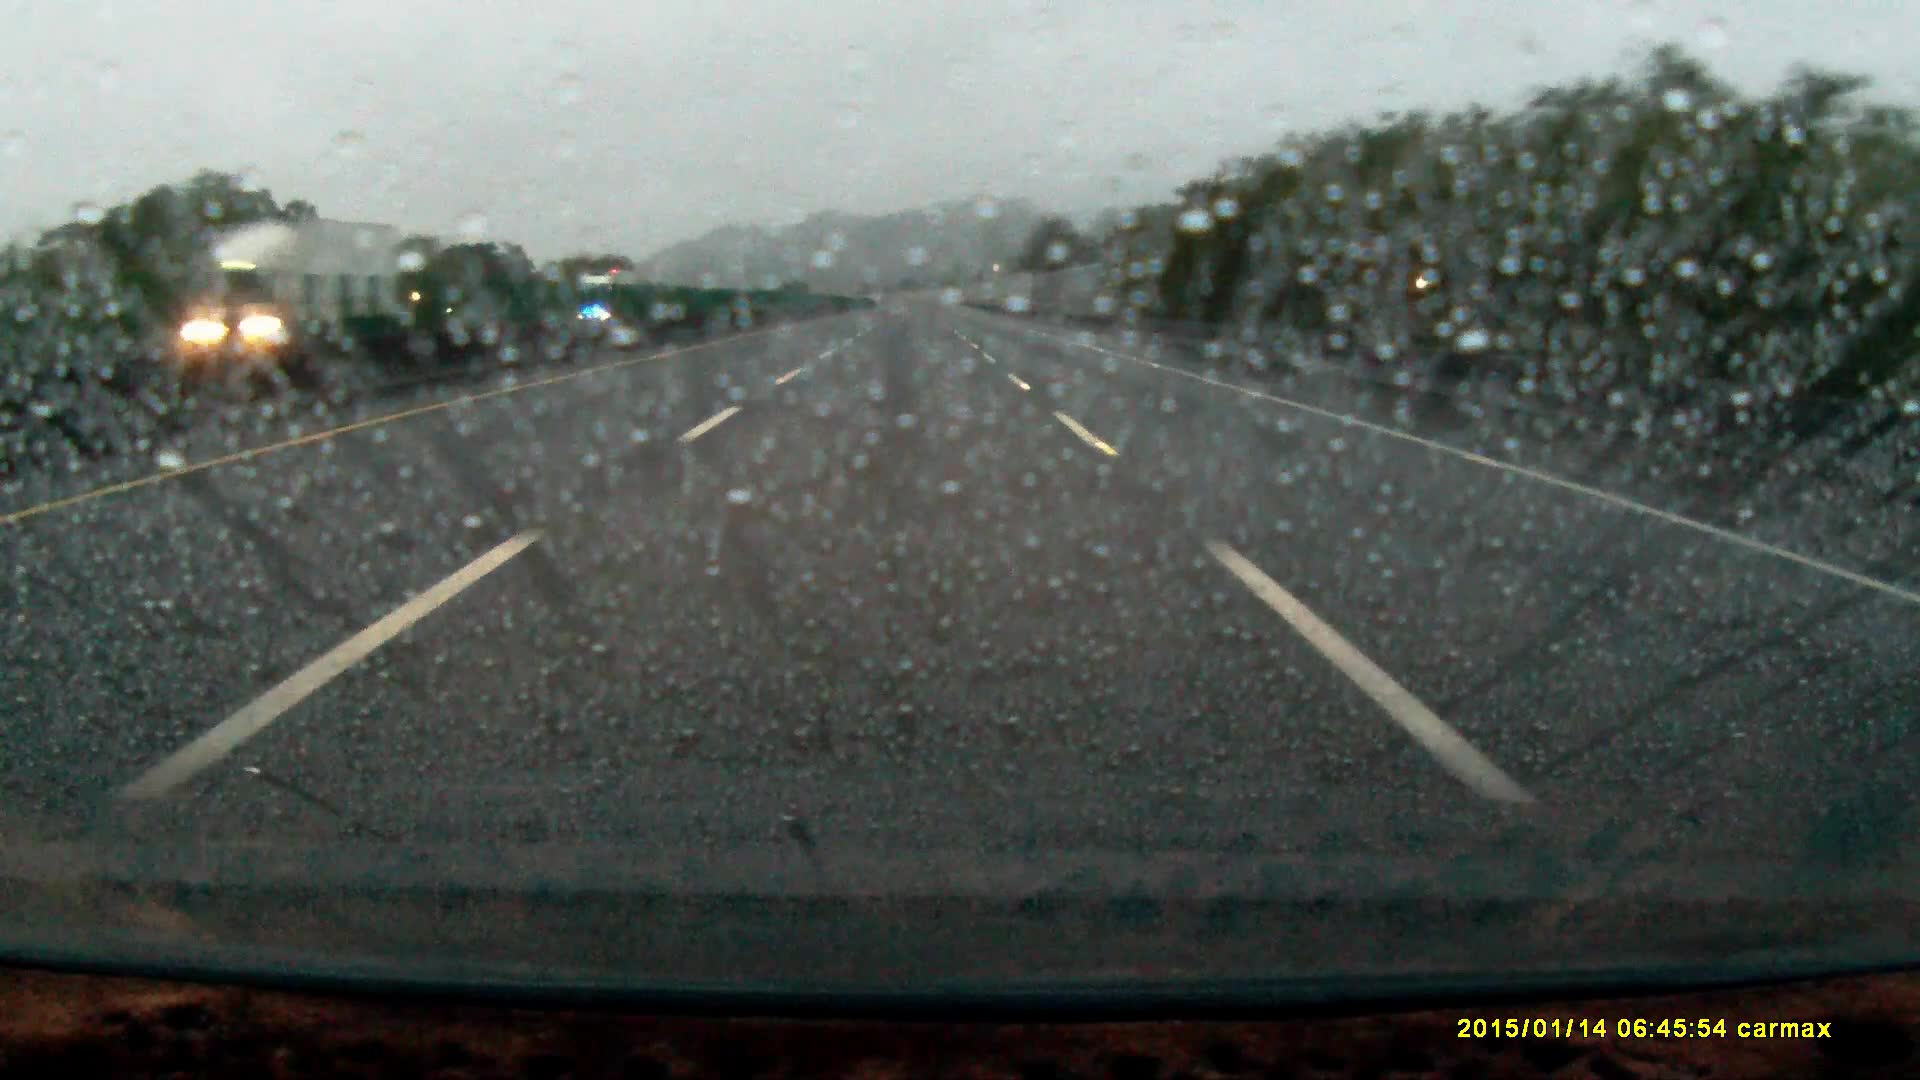vehicle: (171, 214, 414, 382), (575, 269, 641, 322)
